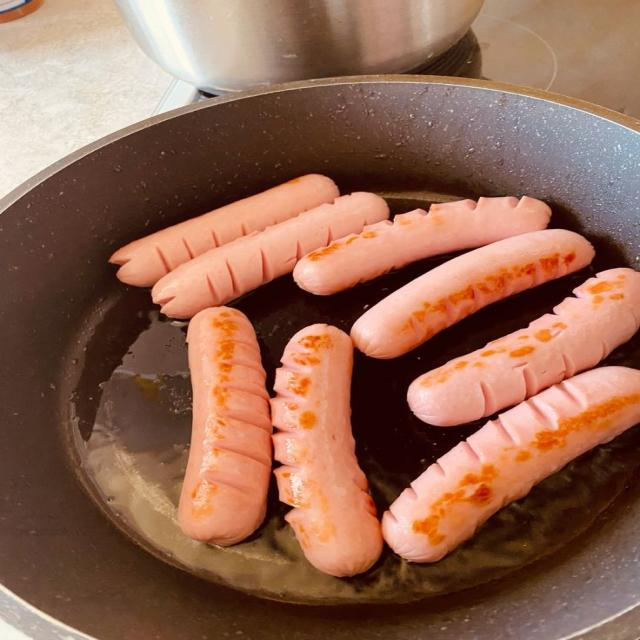sausage: (383, 367, 639, 561), (408, 269, 639, 426), (352, 229, 593, 358), (153, 192, 388, 317), (272, 325, 382, 576), (110, 175, 339, 286), (294, 197, 551, 294), (179, 308, 271, 545)
